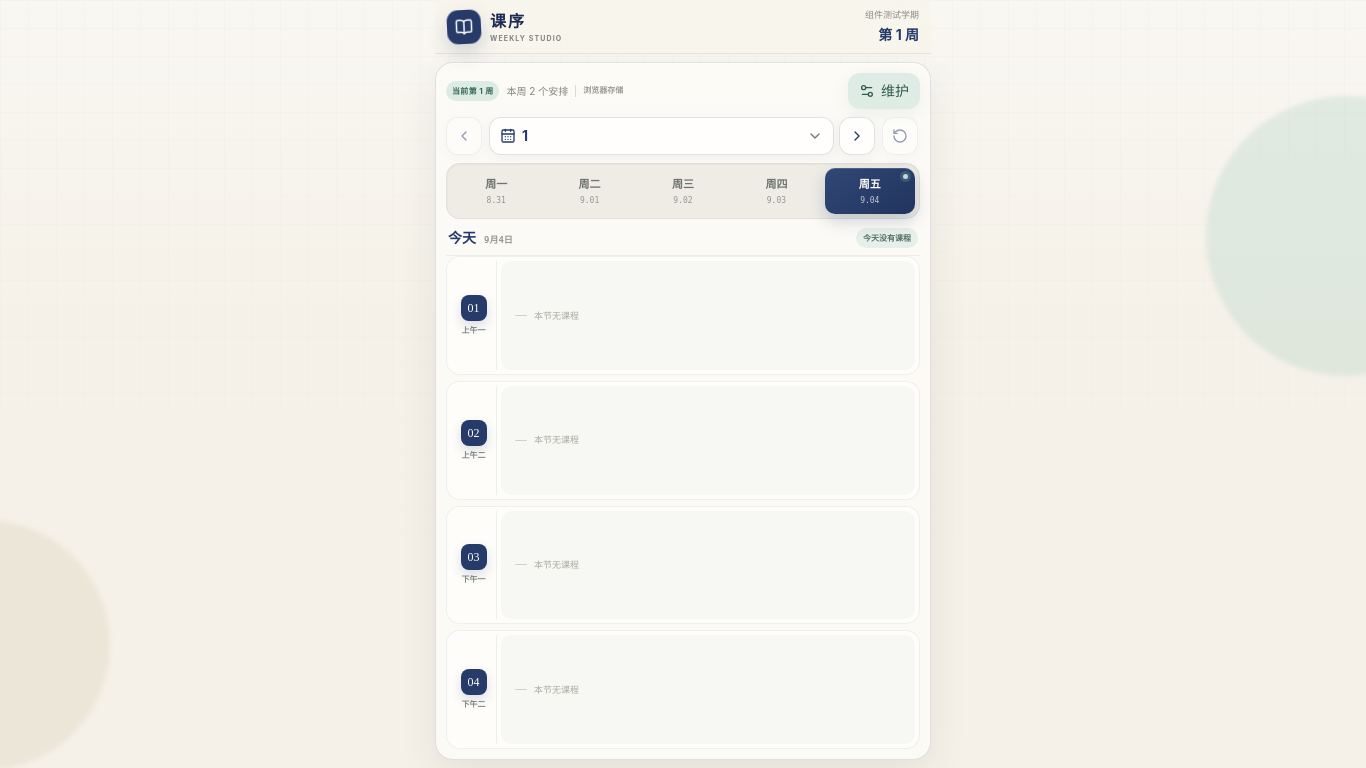
Test: course schedule page › 可以编辑并删除指定课程
Click the button "维护" at (884, 91), box 848,73 -> 920,109
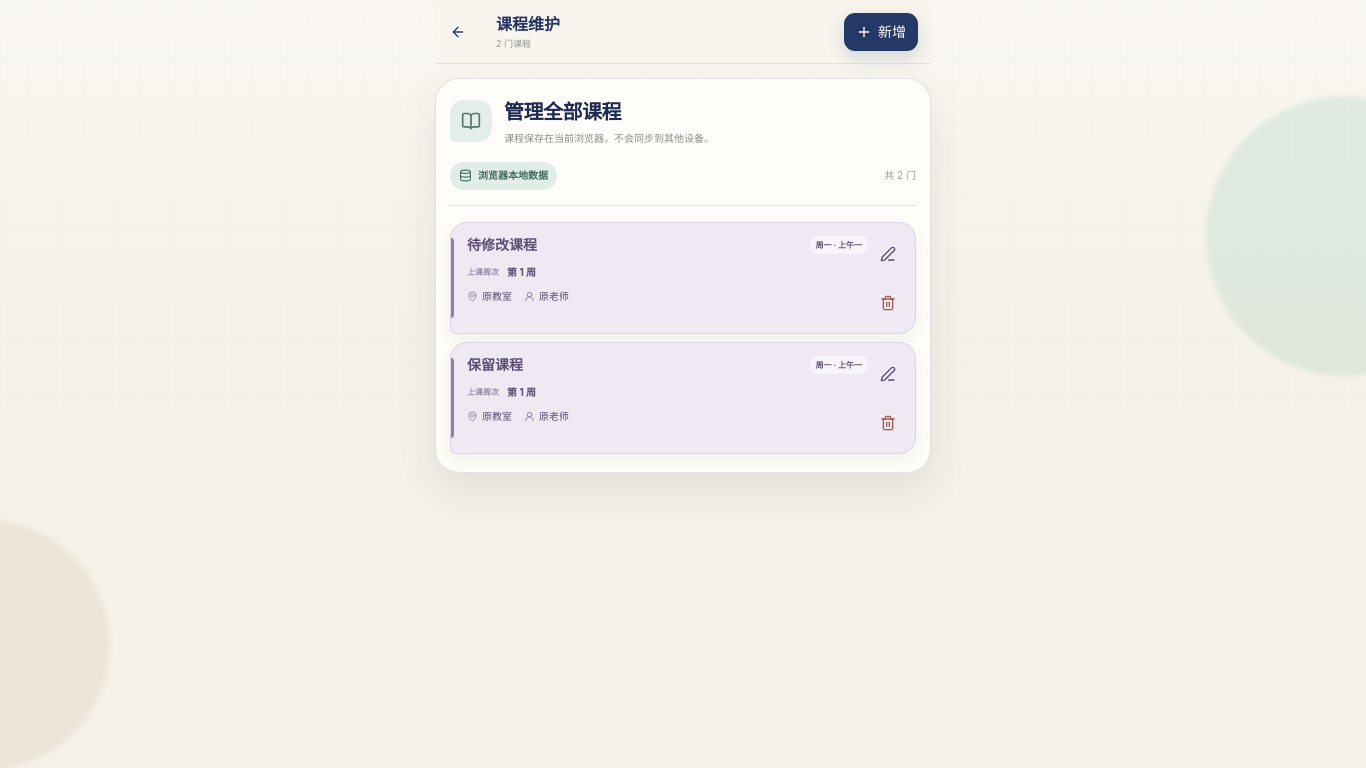
Click the button named "编辑课程：待修改课程" at (888, 254), box 870,236 -> 906,272
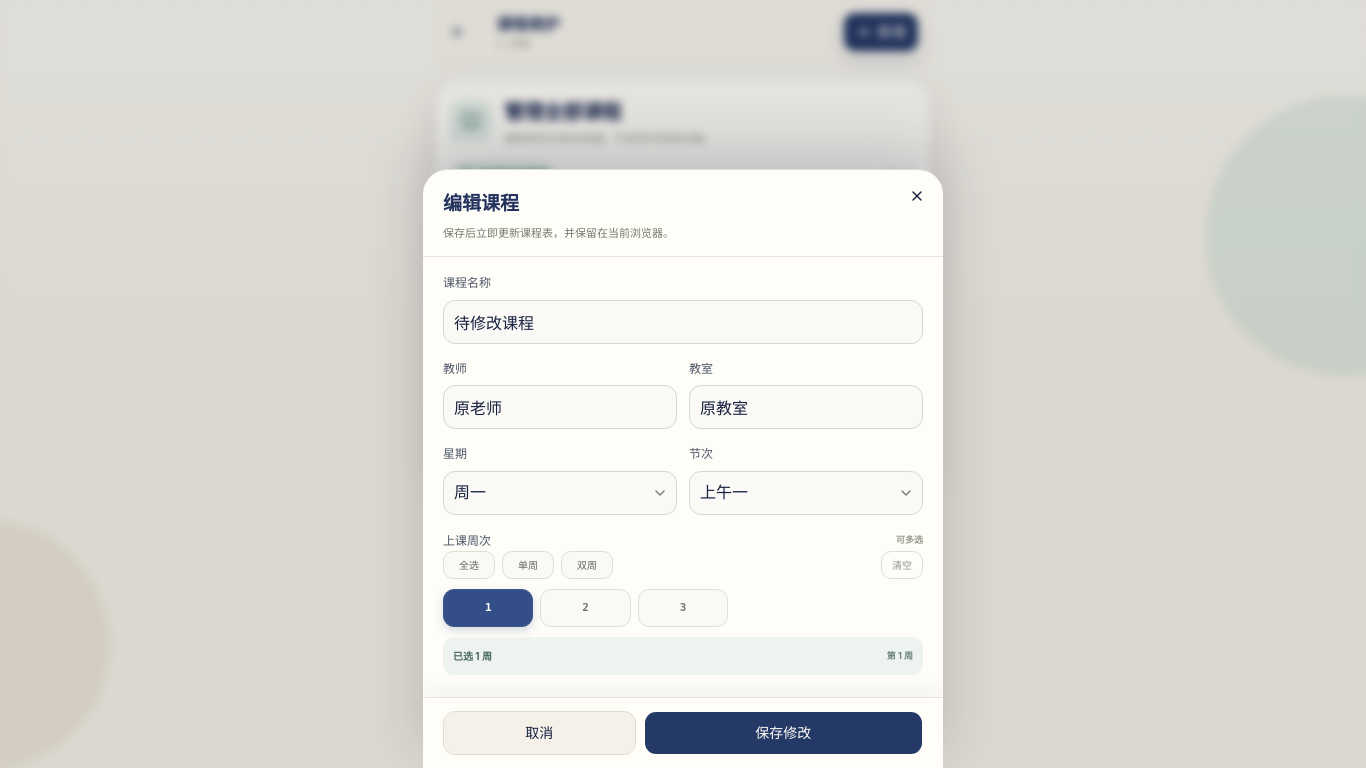
Replace the text in the field labelled "课程名称" with "已修改课程" at (683, 322), box 443,300 -> 923,344
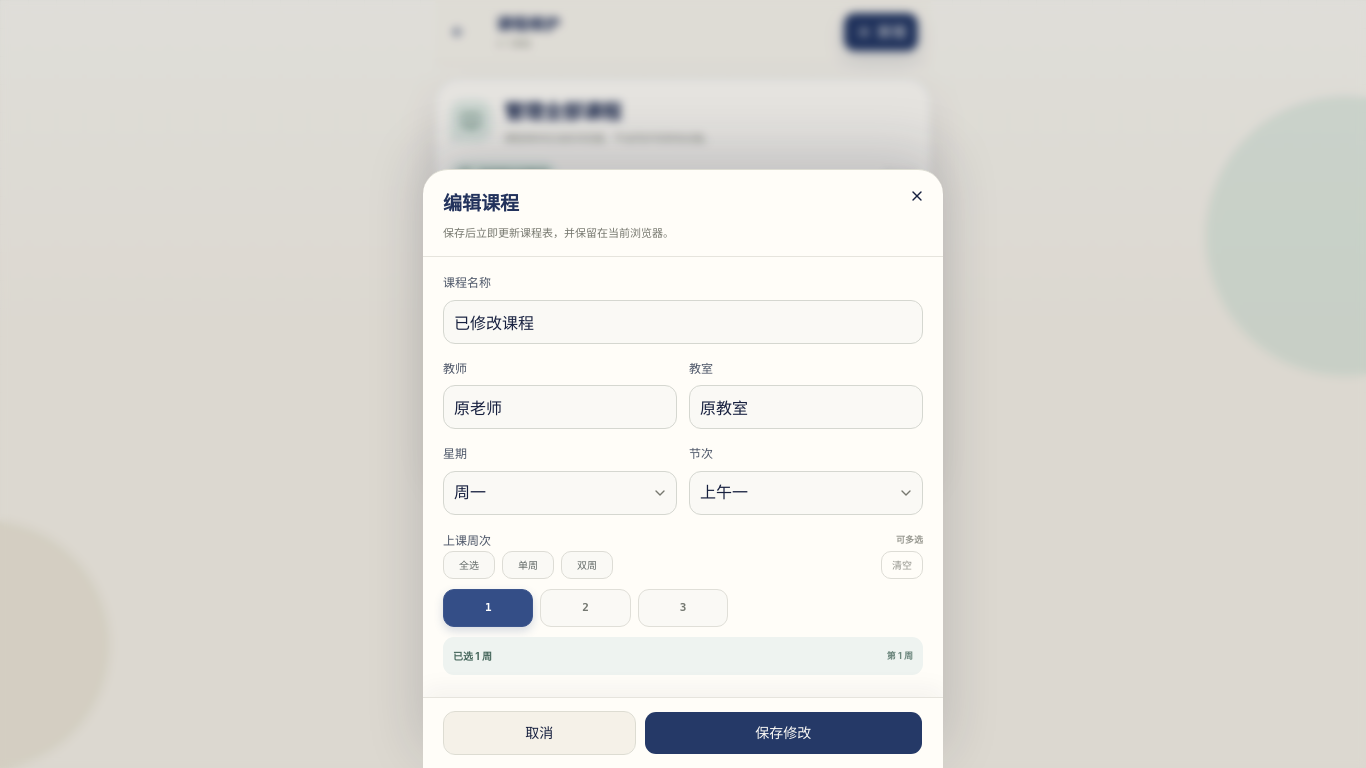
Click the button "保存修改" at (783, 733), box 644,711 -> 923,755
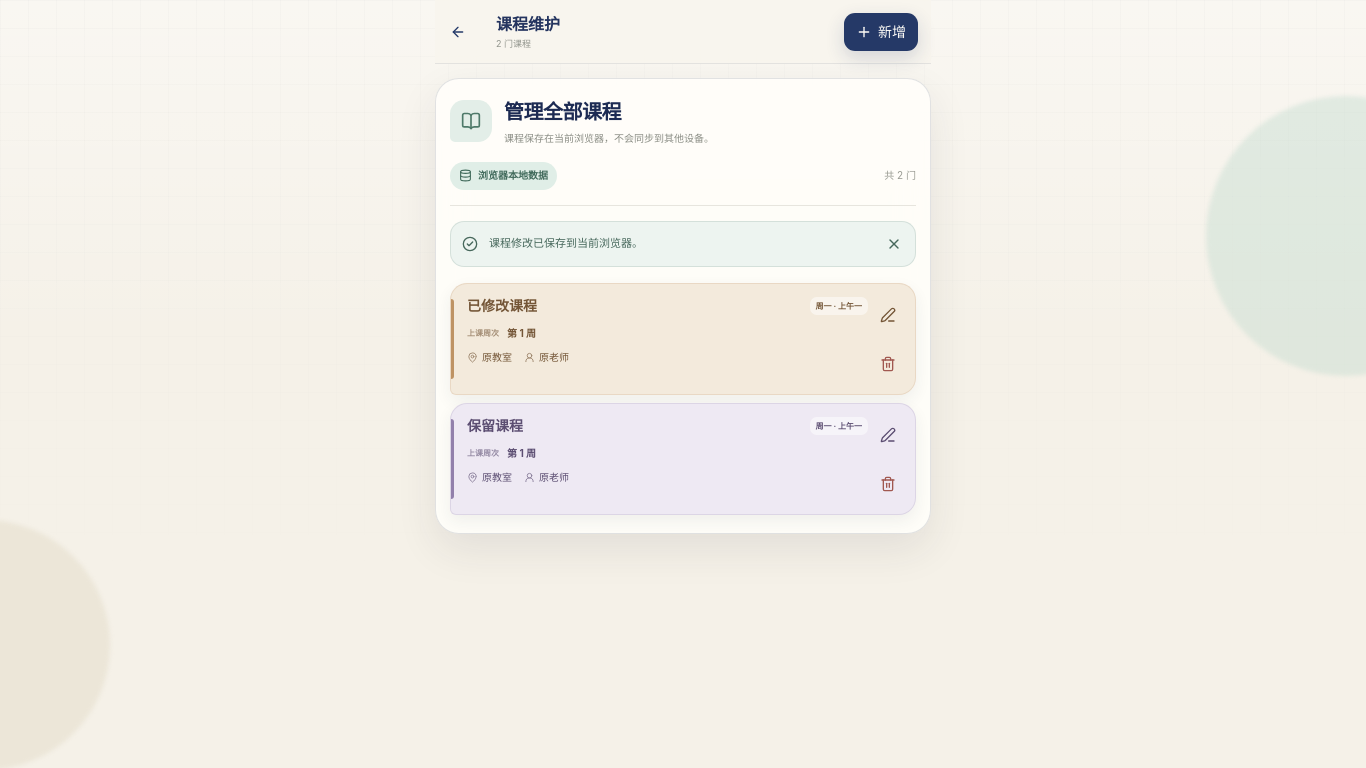
Result: the heading "已修改课程" is shown at 467,296 -> 537,315
Result: the heading "待修改课程" is gone
Click the button named "删除课程：已修改课程" at (888, 364), box 870,346 -> 906,382
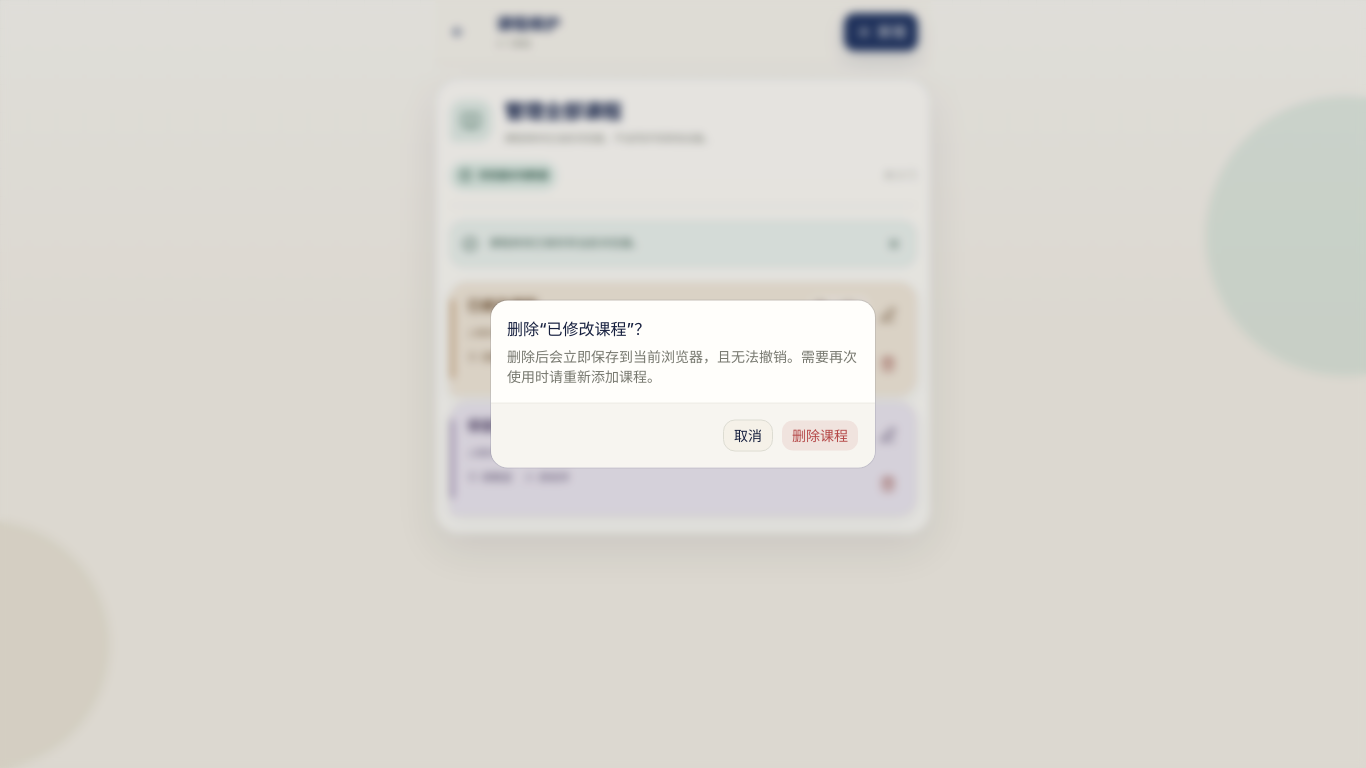
Result: the heading "删除“已修改课程”？" is shown at 507,316 -> 650,340
Click the button "删除课程" at (820, 436), box 781,420 -> 859,452
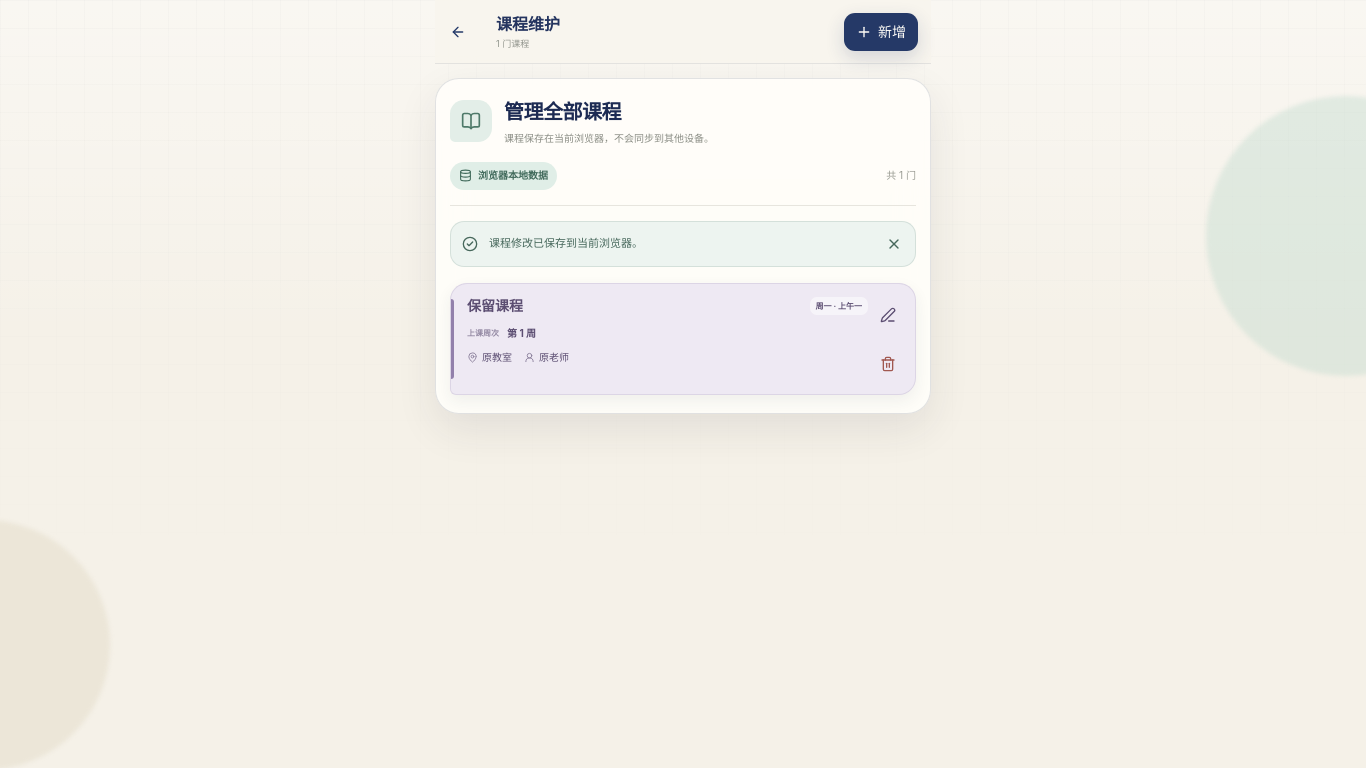
Result: the heading "已修改课程" is gone
Result: the heading "保留课程" is shown at 467,296 -> 523,315
